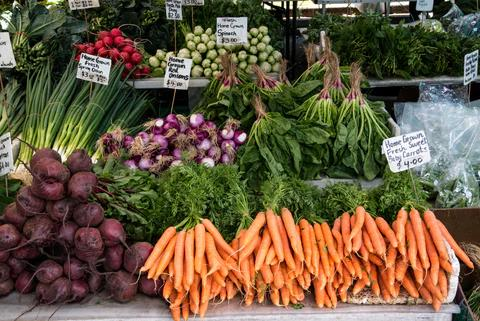beet: (1, 152, 158, 298)
carrot: (149, 181, 477, 315)
